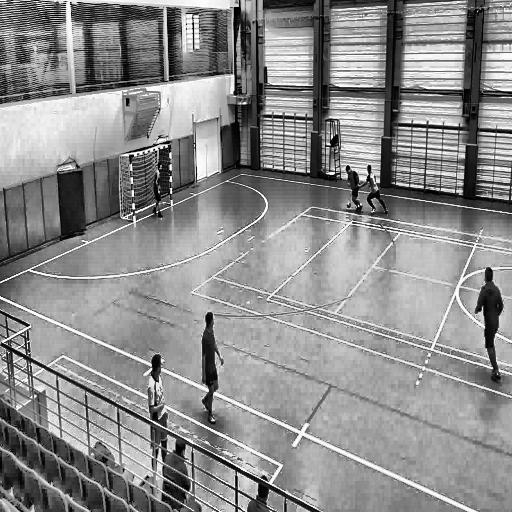ball: (345, 200, 352, 210)
player: (474, 268, 507, 387), (195, 309, 228, 427), (146, 352, 168, 486), (360, 162, 390, 217), (148, 159, 164, 221), (345, 162, 362, 216)
